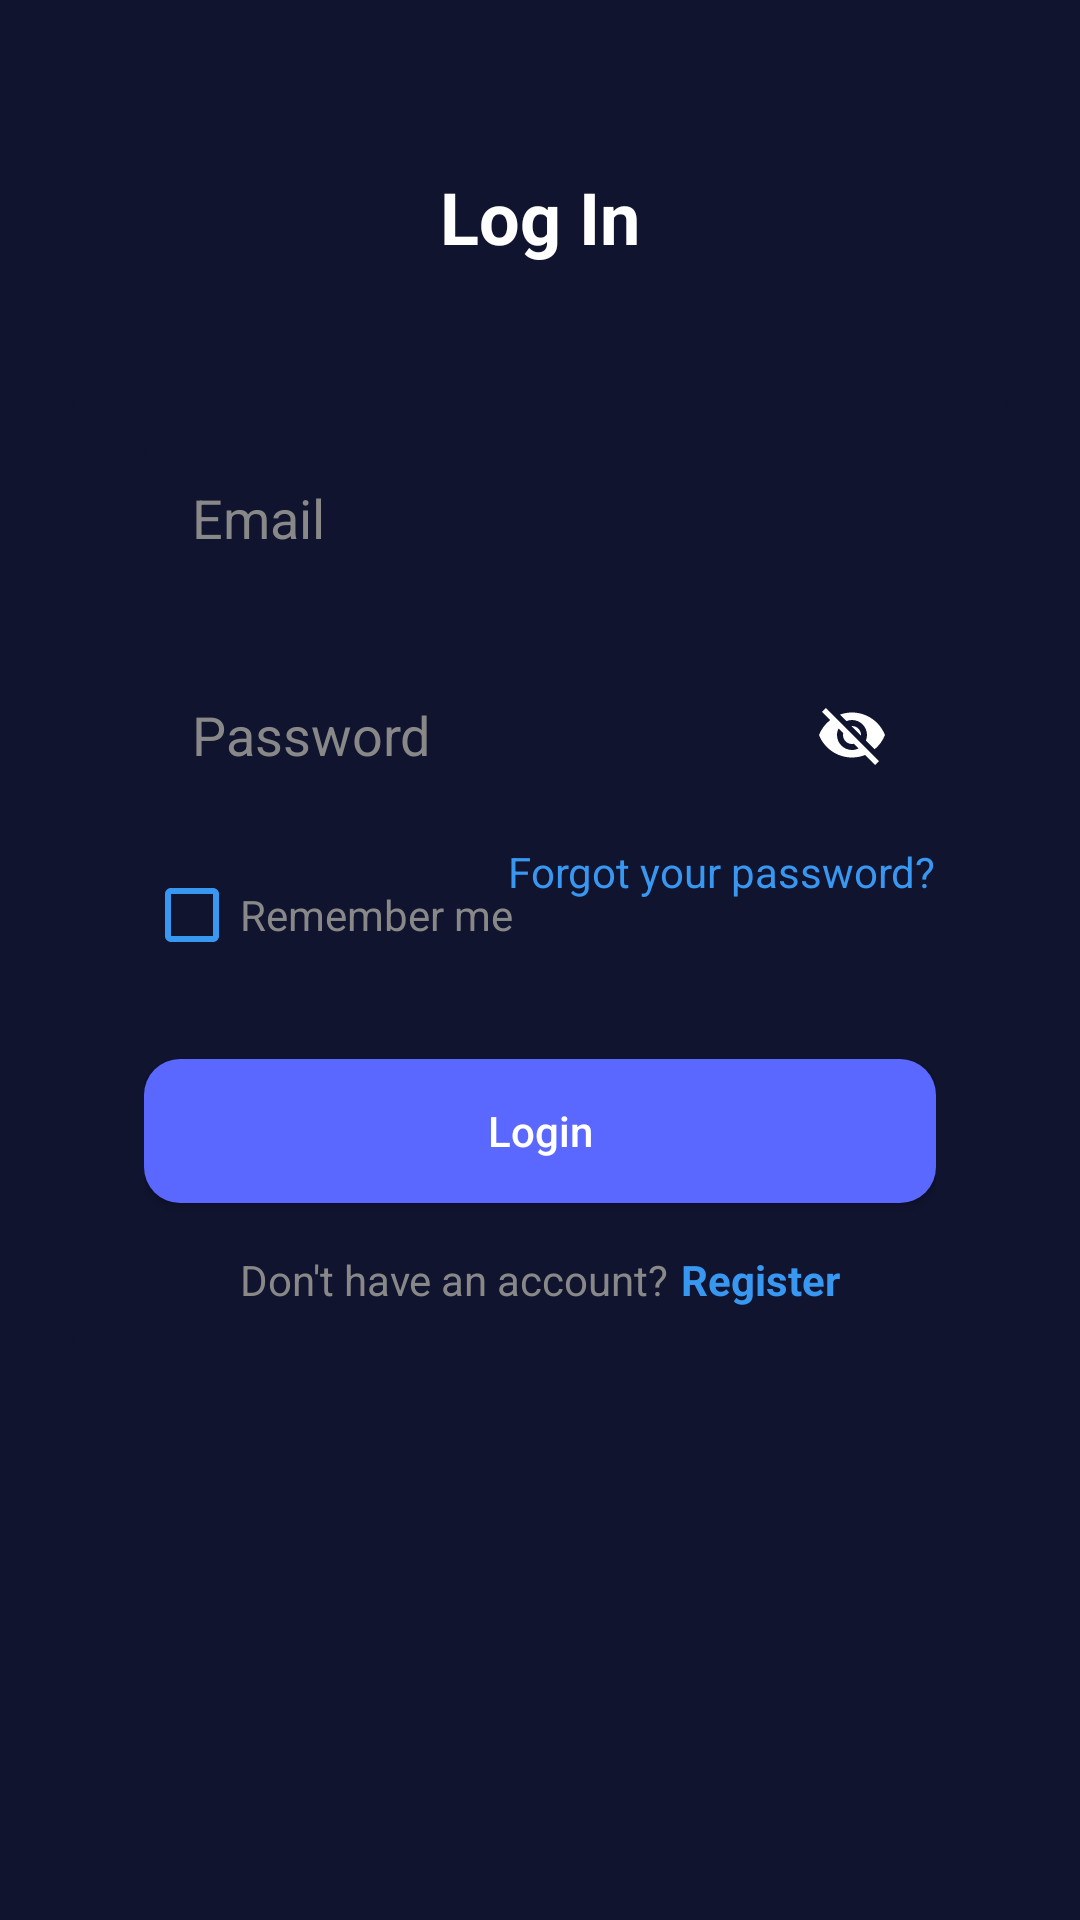

Screen size 1080 × 1920. Icon name, then its center in pixels as point (x, y):
visibility off: point (852, 736)
